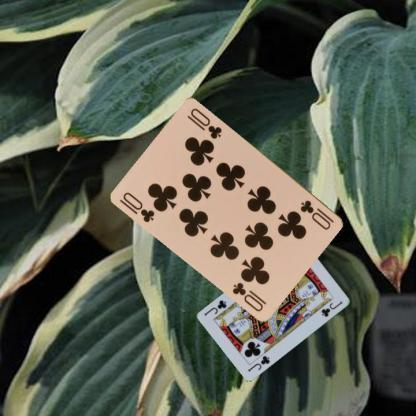10c: (298, 197, 336, 231), (120, 190, 157, 224)
Jc: (245, 352, 271, 372)
